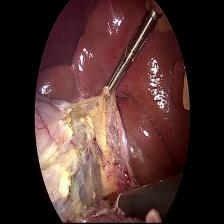Grasper: (97, 5, 161, 107)
